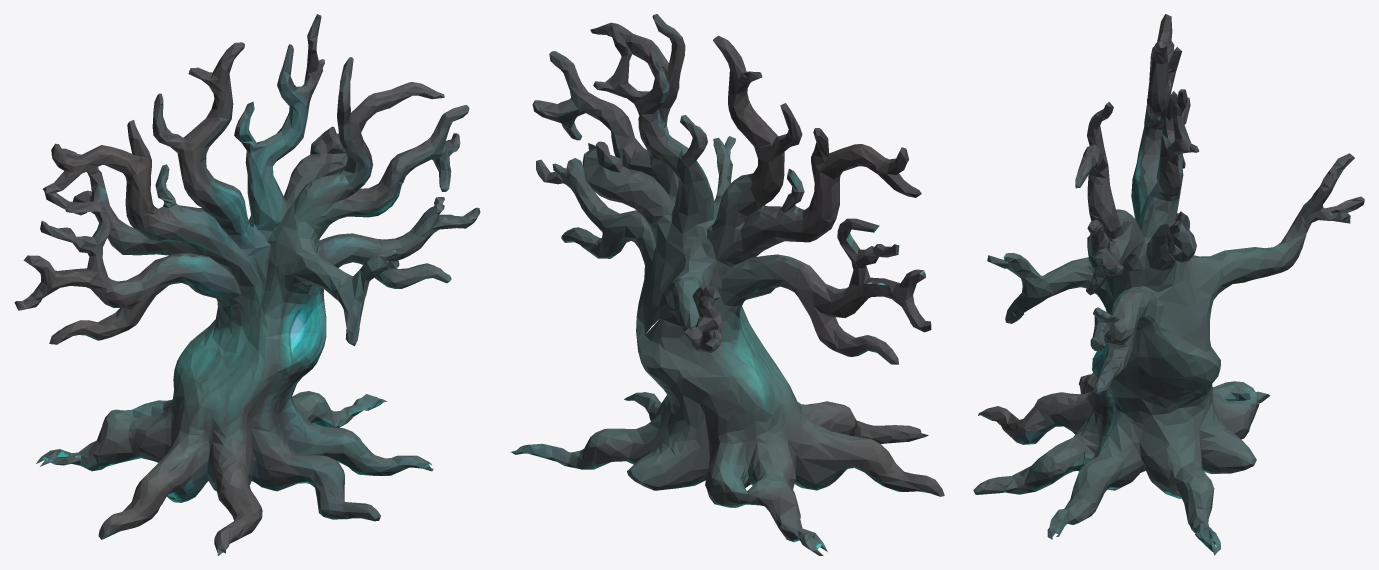
Rendered from enchanted_tree.glb.
3 views of the same model, side by side, from view 1: azimuth 30°, elevation 25°; view 2: azimuth 150°, elevation 25°; view 3: azimuth 270°, elevation 25° (orthographic). The views are drawn at different scales.
Visible parts, largest first — view 1: geometry_0; view 2: geometry_0; view 3: geometry_0.
Boxes of the visible parts, x1=… form: geometry_0: x1=14, y1=14, x2=480, y2=555; geometry_0: x1=510, y1=14, x2=944, y2=555; geometry_0: x1=973, y1=14, x2=1364, y2=555.
Bounding box in the file's own units: 2.85 × 2.8 × 2.26.
1 material, 1 textured.
